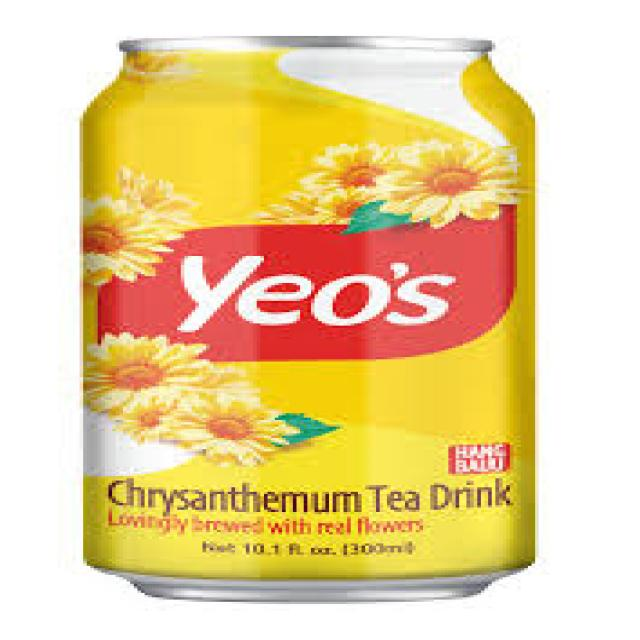Cans: (61, 25, 557, 606)
